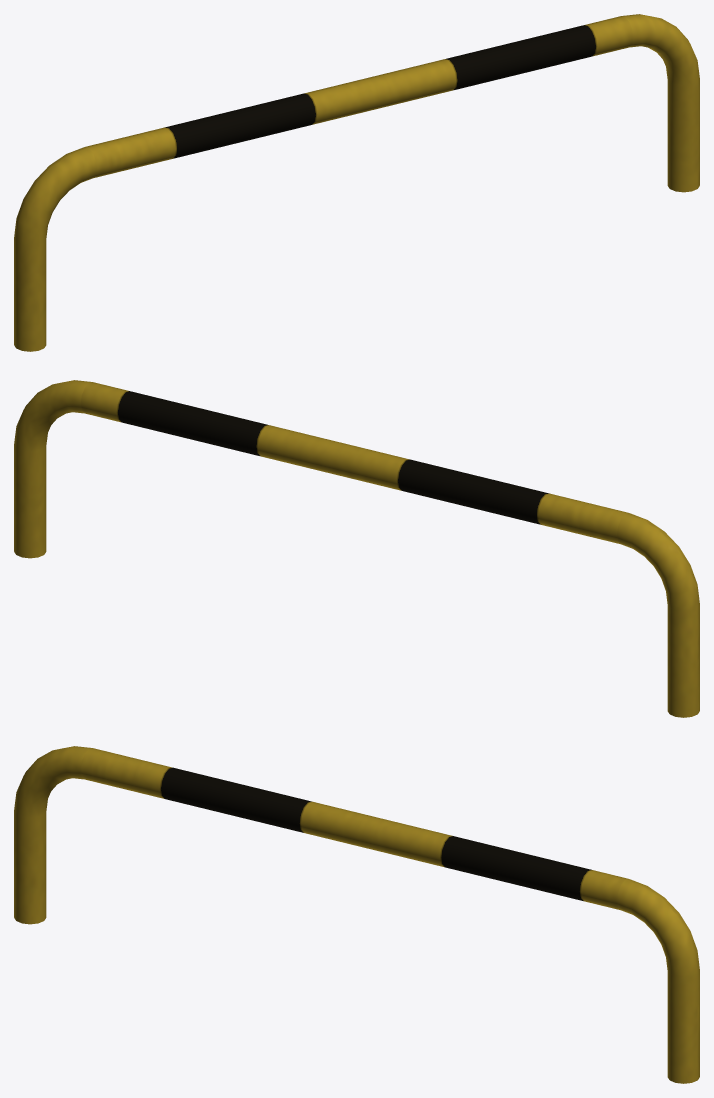
Rendered from sm_stob_006.fbx.
3 renders of one model, top to bottom at view 1: azimuth 30°, elevation 25°; view 2: azimuth 150°, elevation 25°; view 3: azimuth 330°, elevation 25°, orthographic.
Parts seen in each view (by area): view 1: sm_stob_006; view 2: sm_stob_006; view 3: sm_stob_006.
Part boxes in pixels (bbox=[...]): sm_stob_006: bbox=[14, 14, 699, 351]; sm_stob_006: bbox=[14, 380, 699, 717]; sm_stob_006: bbox=[14, 746, 699, 1083].
Bounding box in the file's own units: 1.46 × 0.3745 × 0.0603.
1 material, 1 textured.
